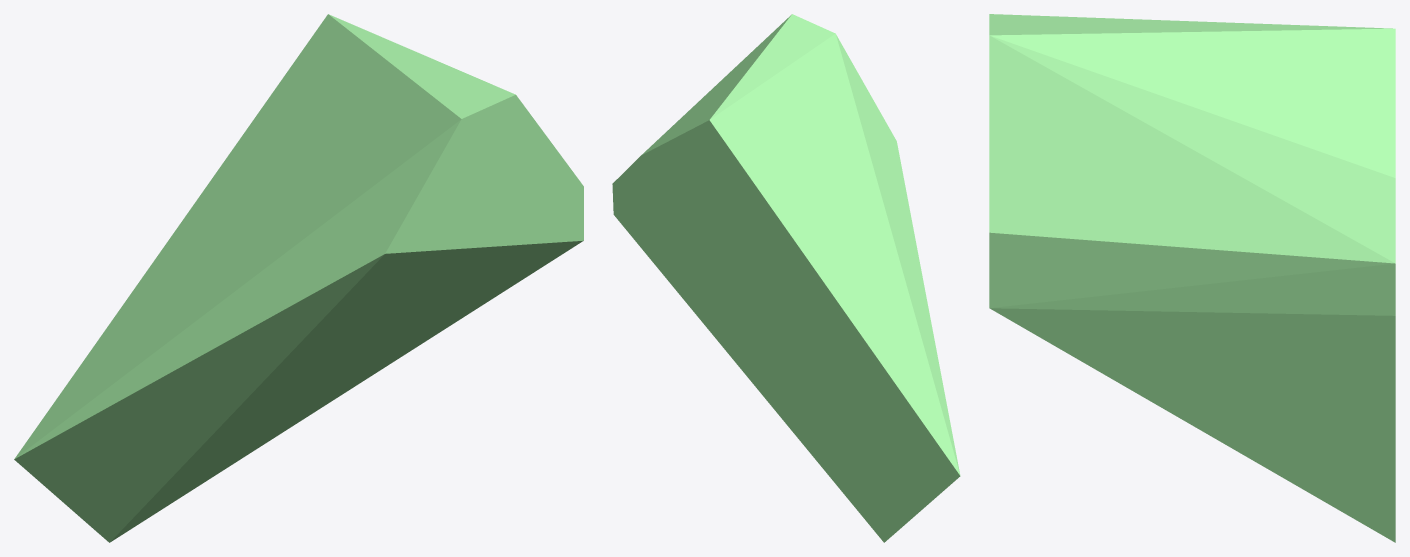
Rendered from UMIRobot_UMIRobot_link_2_convex_coll_28.dae.
3 views of the same model, side by side, from view 1: azimuth 30°, elevation 25°; view 2: azimuth 150°, elevation 25°; view 3: azimuth 270°, elevation 25° (orthographic). The views are drawn at different scales.
Visible parts, largest first — view 1: node; view 2: node; view 3: node.
Boxes of the visible parts, box(x1,y1,x2,y2) form: node: box(14, 14, 583, 542); node: box(612, 14, 960, 542); node: box(989, 14, 1395, 542).
Size of the model in its own units: 0.0241 by 0.026 by 0.014.
